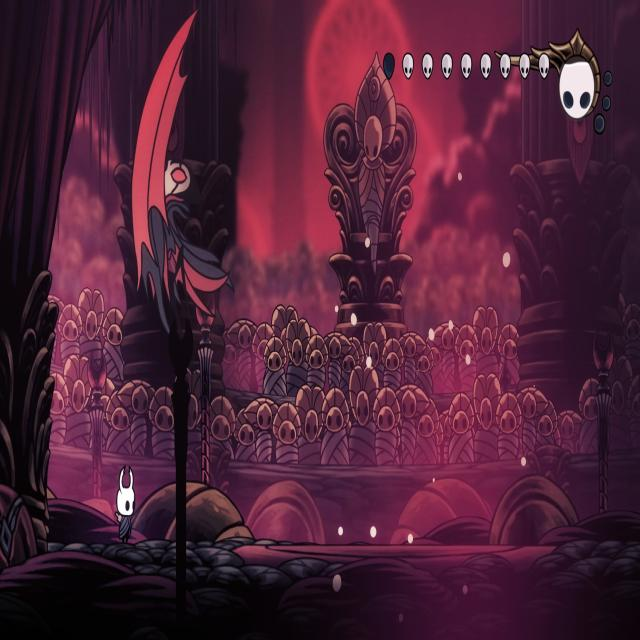Dash Uppercut: (131, 5, 236, 336)
Player: (112, 462, 138, 544)
